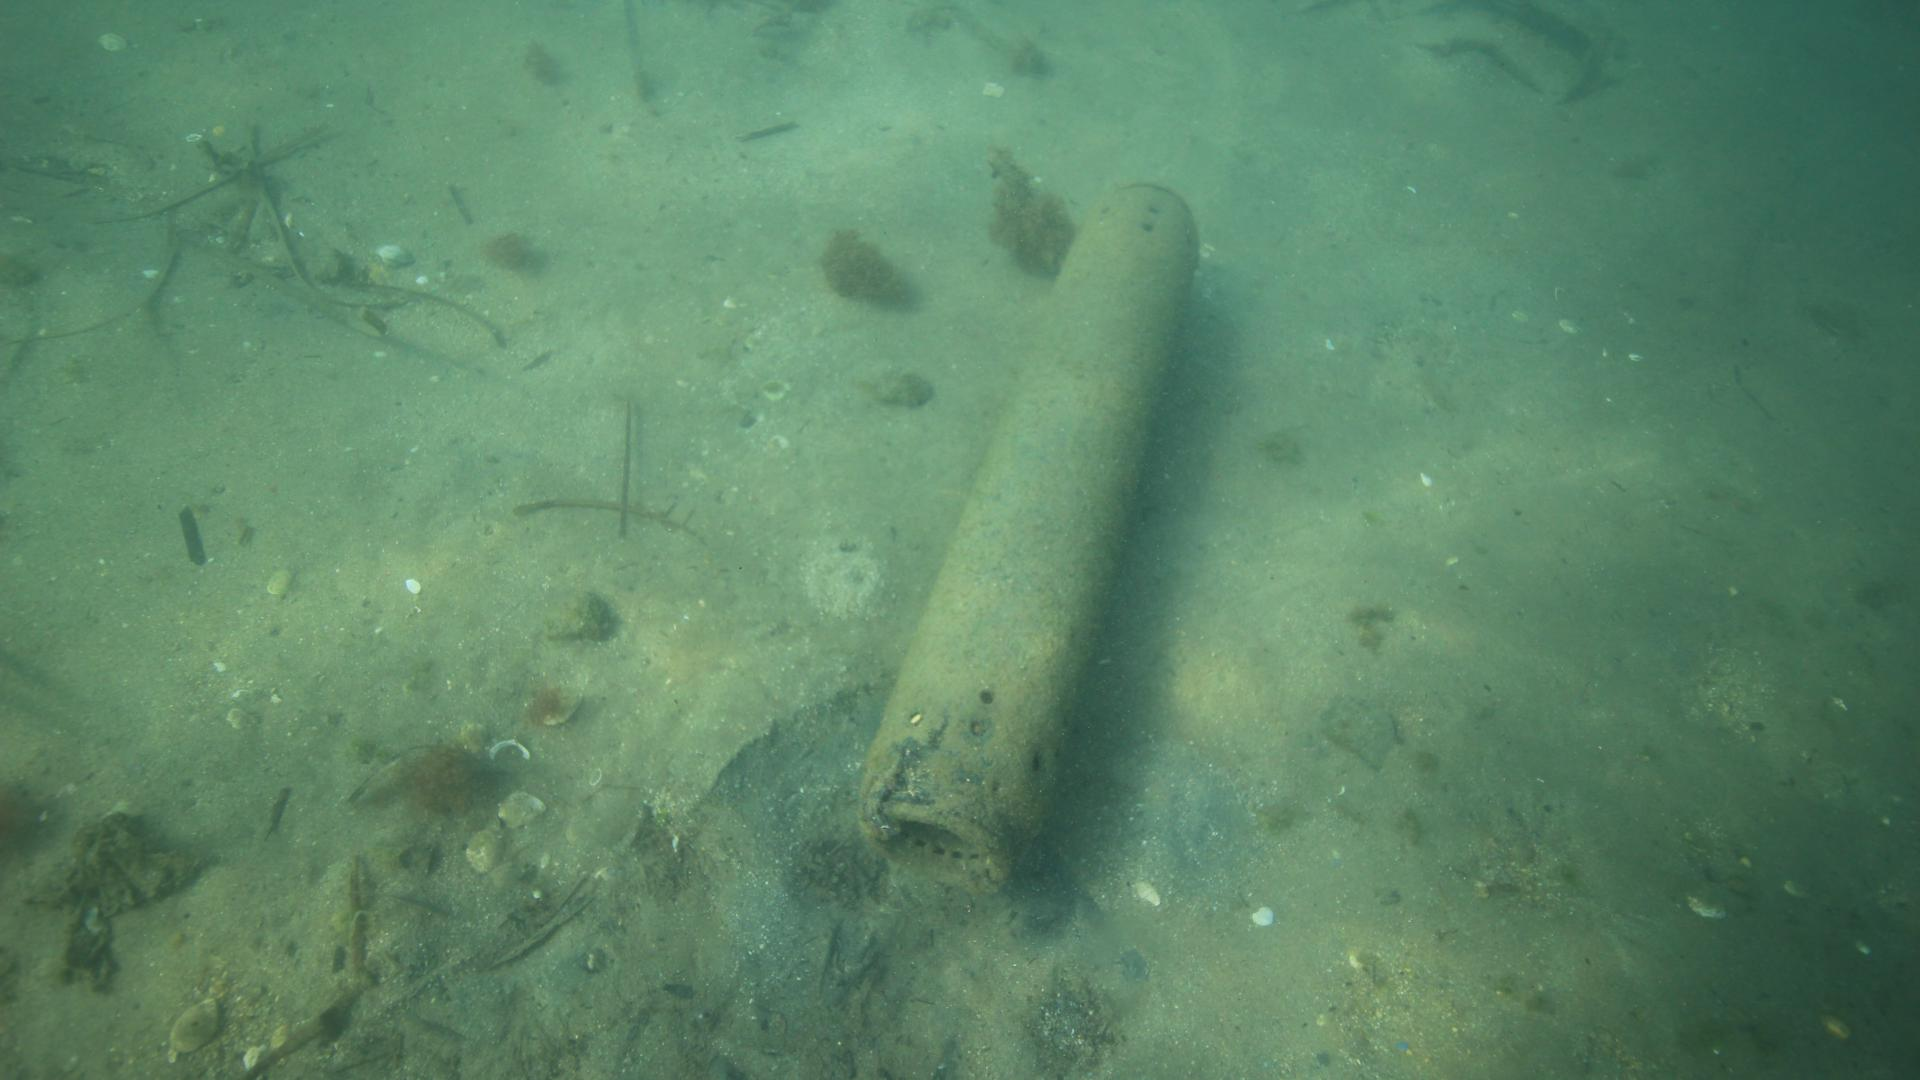eel fish trap: (852, 181, 1203, 897)
